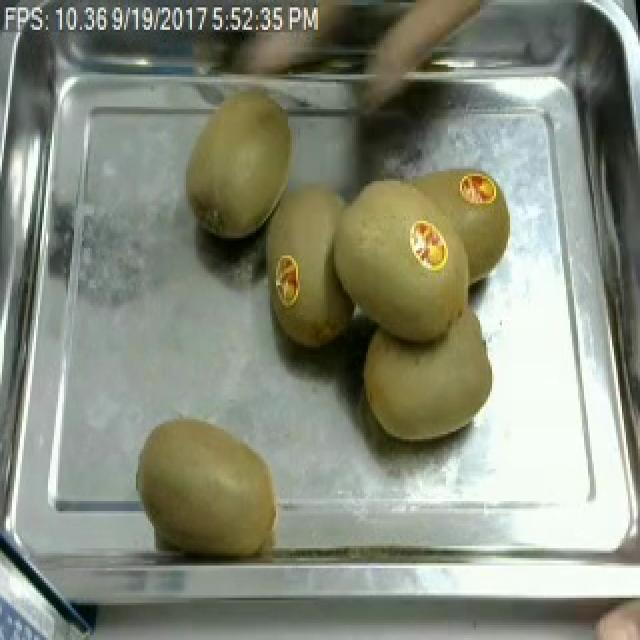Fruit: (320, 151, 524, 355), (350, 288, 502, 451), (130, 409, 292, 556), (178, 82, 302, 248), (256, 169, 362, 357)
